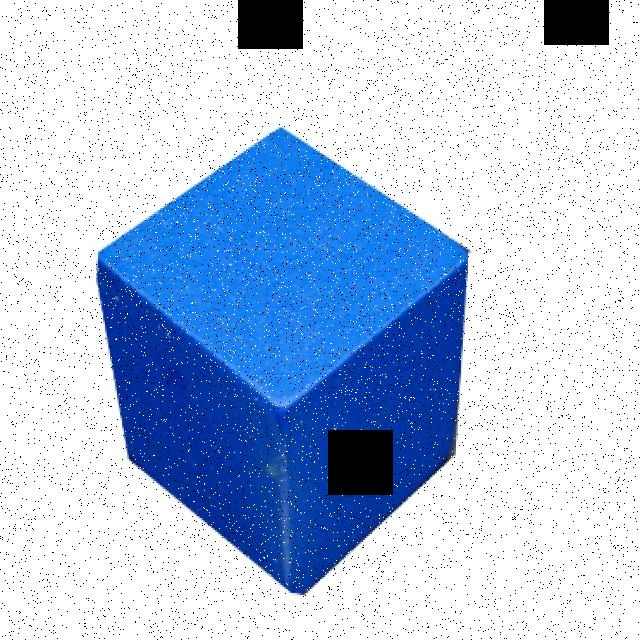bluecube: (92, 124, 470, 596)
